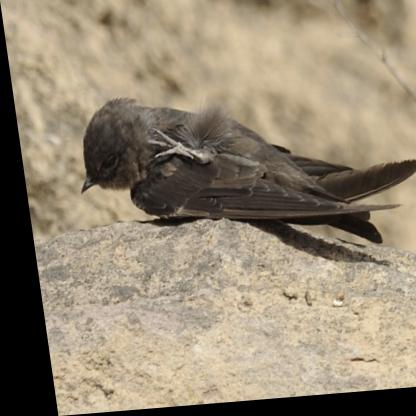Burung: (65, 81, 415, 269)
